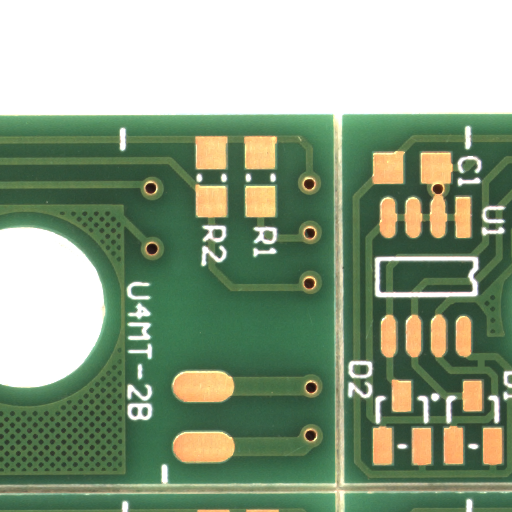Short: (481, 363, 496, 378)
